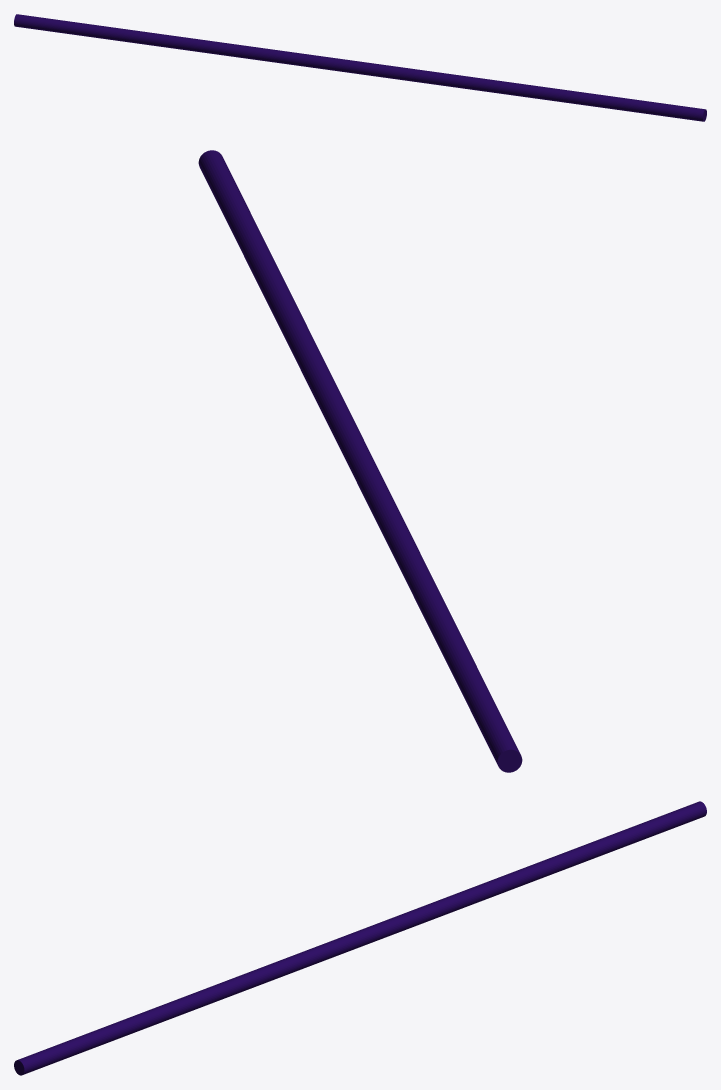
The picture shows the model from 3 angles, top to bottom: view 1: azimuth 30°, elevation 25°; view 2: azimuth 150°, elevation 25°; view 3: azimuth 270°, elevation 25°; orthographic projection. The views are drawn at different scales.
Visible parts, largest first — view 1: Циліндр.002; view 2: Циліндр.002; view 3: Циліндр.002.
Part boxes in pixels (<box>): Циліндр.002: <box>14,14,706,121</box>; Циліндр.002: <box>198,150,522,772</box>; Циліндр.002: <box>14,801,706,1075</box>.
Bounding box in the file's own units: 4.68 × 0.12 × 5.19.
